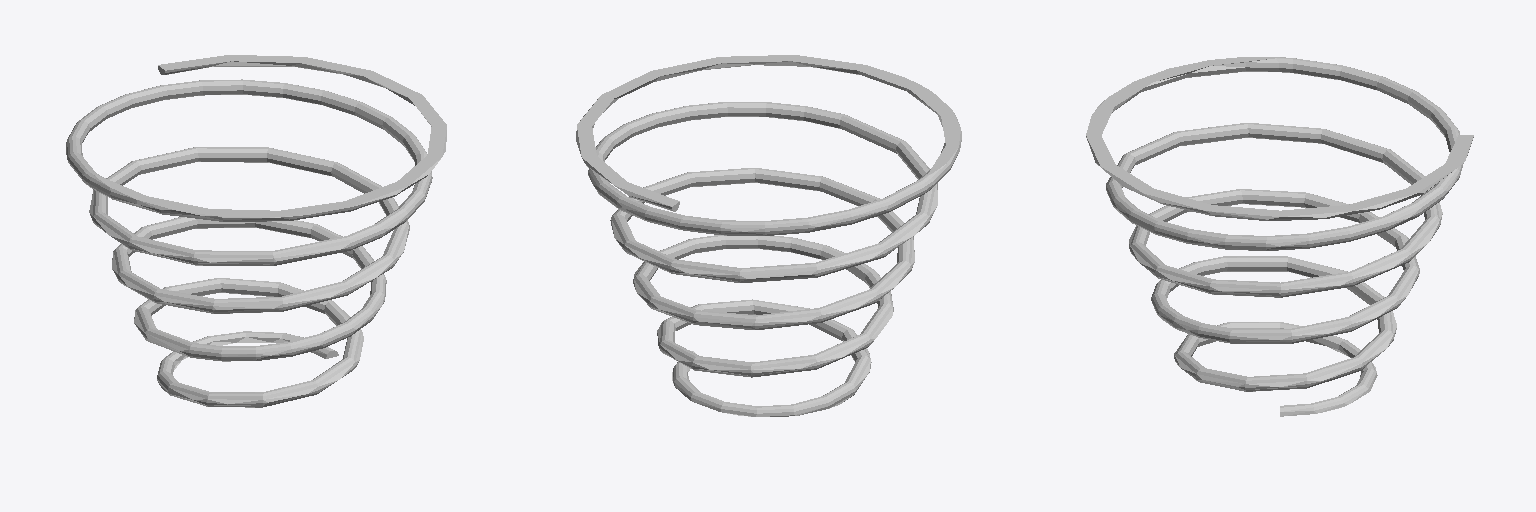
File: 80. Пружина рычага (свободна).obj
The picture shows the model from 3 angles: view 1: azimuth 30°, elevation 25°; view 2: azimuth 150°, elevation 25°; view 3: azimuth 270°, elevation 25°; orthographic projection.
Visible parts, largest first — view 1: Твердое тело1; view 2: Твердое тело1; view 3: Твердое тело1.
Part boxes in pixels (x1,y1,x2,y2): Твердое тело1: (66,55,446,407); Твердое тело1: (576,55,961,416); Твердое тело1: (1086,57,1473,416).
Size of the model in its own units: 49.38 by 34 by 49.75.